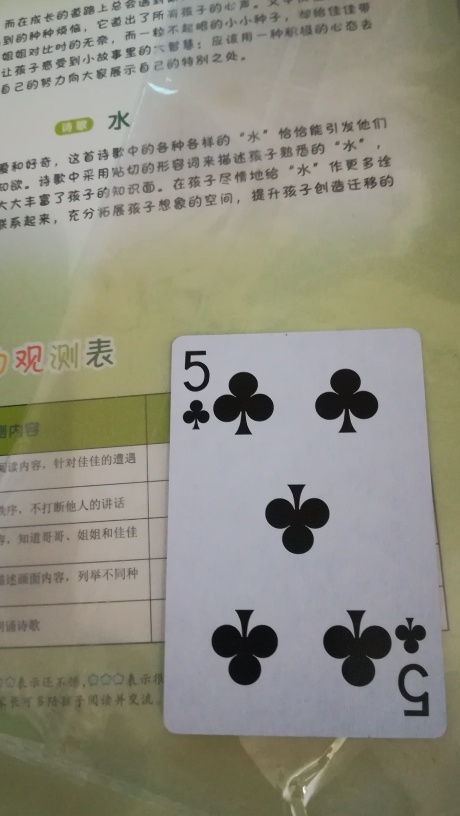mh 5: (158, 331, 450, 739)
